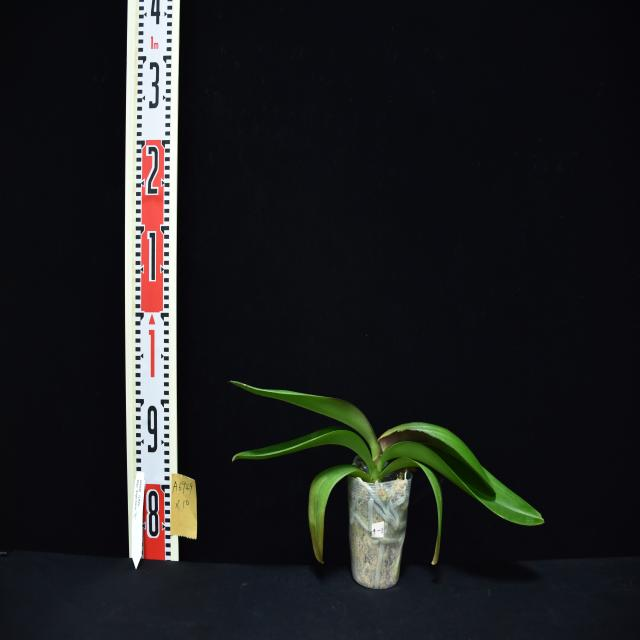leaf: (377, 441, 544, 525), (230, 381, 383, 461), (379, 423, 495, 491), (232, 428, 381, 478), (377, 458, 443, 564), (309, 465, 372, 563)
